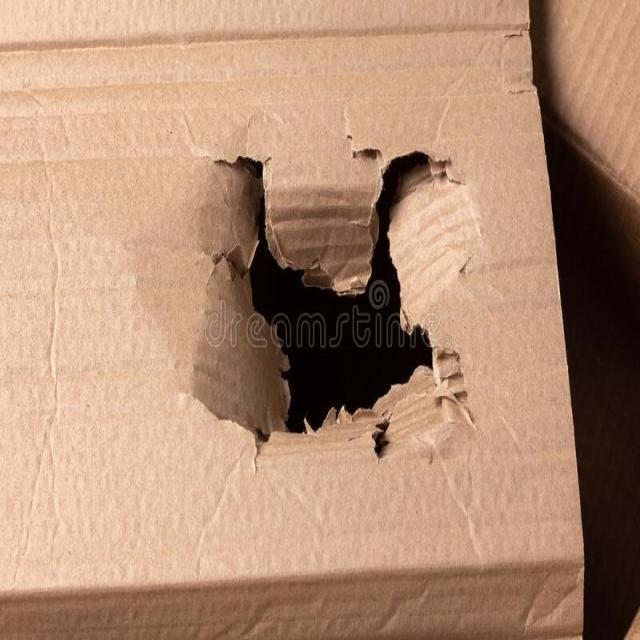damaged: (183, 124, 479, 460)
